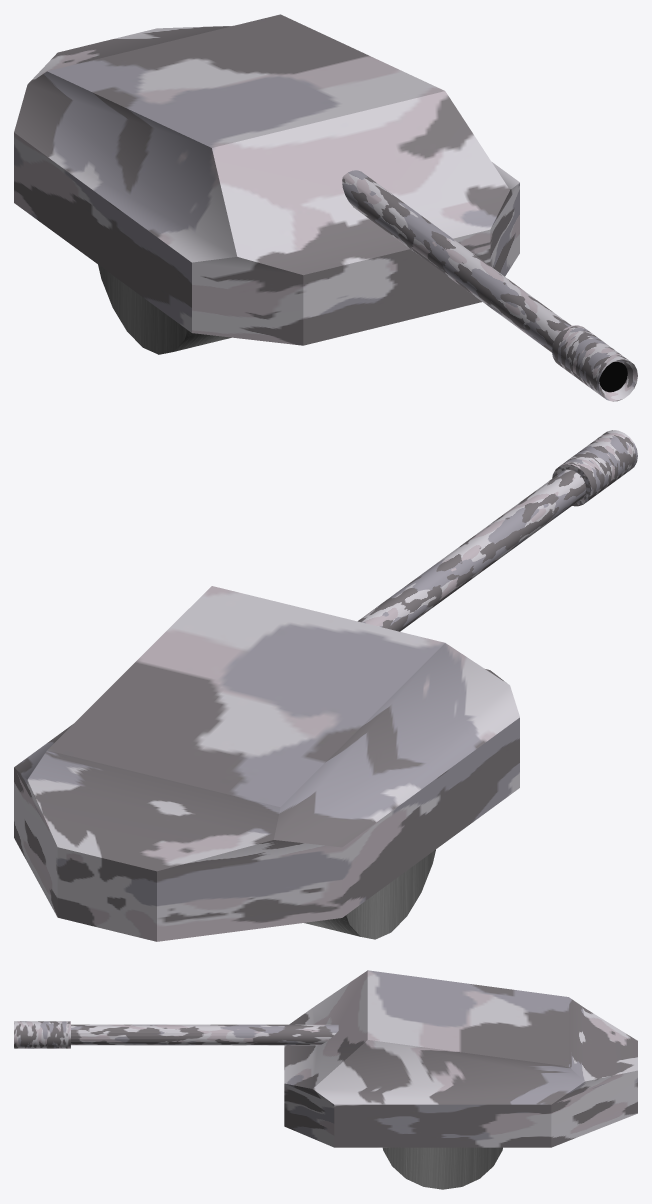
The model's file is tullet04.obj.
3 renders of one model, top to bottom at view 1: azimuth 30°, elevation 25°; view 2: azimuth 150°, elevation 25°; view 3: azimuth 270°, elevation 25°, orthographic. The views are drawn at different scales.
Visible parts, largest first — view 1: tullet04:pCylinder13; view 2: tullet04:pCylinder13; view 3: tullet04:pCylinder13.
Boxes of the visible parts, x1,y1,x2,y2 form: tullet04:pCylinder13: (14, 14, 637, 401); tullet04:pCylinder13: (14, 430, 637, 941); tullet04:pCylinder13: (14, 970, 637, 1189).
Size of the model in its own units: 3.92 by 2.77 by 10.56.
Materials: 1 (1 with a texture image).
